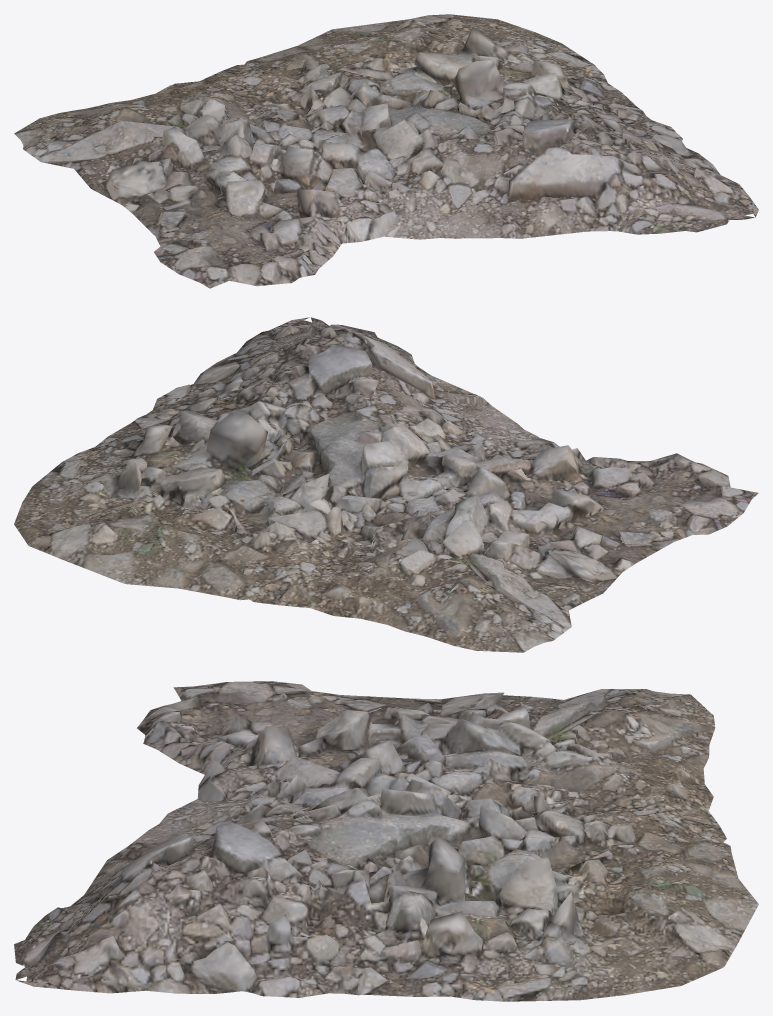
File: SM_PathRocky_01_03_rocks.fbx
3 renders of one model, top to bottom at view 1: azimuth 30°, elevation 25°; view 2: azimuth 150°, elevation 25°; view 3: azimuth 270°, elevation 25°, orthographic. The views are drawn at different scales.
Parts seen in each view (by area): view 1: sm_PathRocky_01_03_rocks_LOD0; view 2: sm_PathRocky_01_03_rocks_LOD0; view 3: sm_PathRocky_01_03_rocks_LOD0.
Part boxes in pixels (x1=…): sm_PathRocky_01_03_rocks_LOD0: x1=14, y1=14, x2=758, y2=288; sm_PathRocky_01_03_rocks_LOD0: x1=14, y1=317, x2=758, y2=652; sm_PathRocky_01_03_rocks_LOD0: x1=14, y1=681, x2=758, y2=1001.
Size of the model in its own units: 203 by 207 by 22.45.
